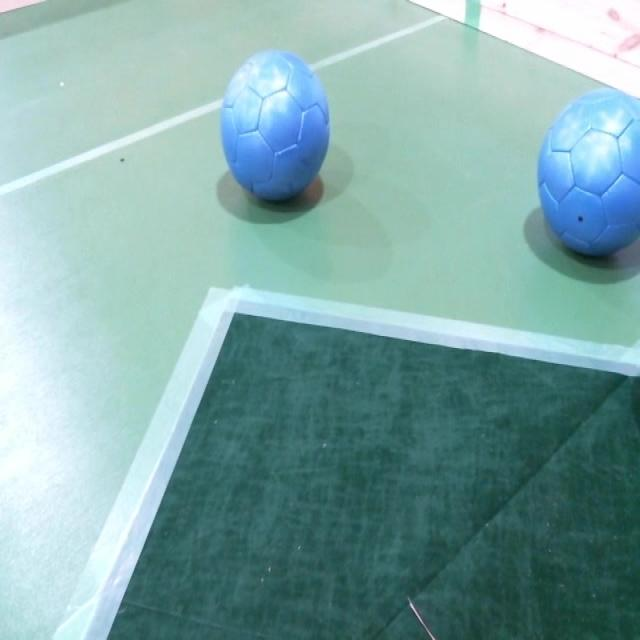blue_ball: (536, 90, 640, 262), (220, 48, 331, 200)
